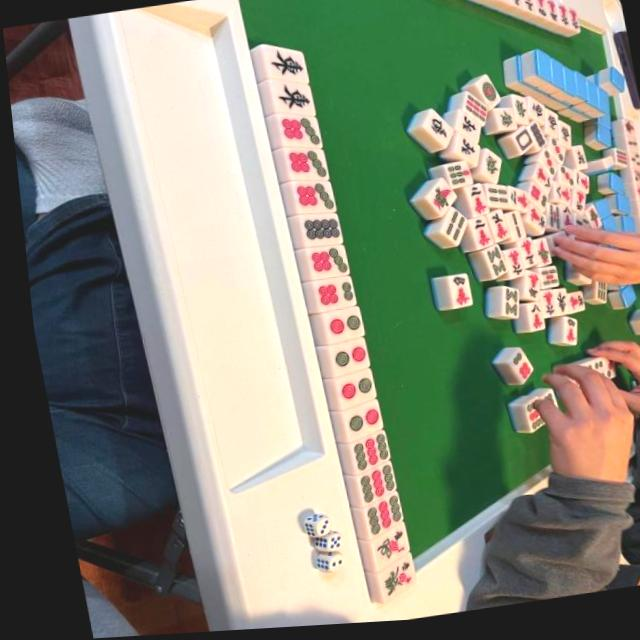bs4: (363, 563, 406, 600), (359, 531, 399, 566)
hwe: (261, 47, 304, 84), (269, 83, 310, 117)
sd2: (326, 375, 367, 408), (332, 407, 372, 437), (320, 343, 359, 373), (317, 313, 355, 340)
sd6: (306, 282, 348, 312)
sd7: (276, 115, 318, 151), (289, 182, 331, 217), (283, 148, 324, 183), (302, 247, 343, 280)
sd8: (294, 215, 336, 246)
sd9: (351, 497, 392, 536), (345, 467, 387, 505), (338, 436, 380, 472)
